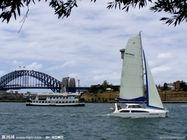fanchuan: (104, 28, 169, 122)
otherboat: (23, 85, 85, 108)
